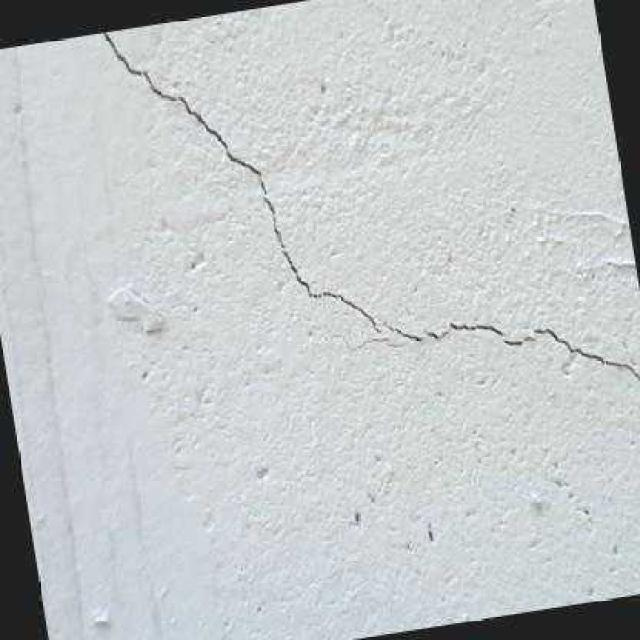D00: (101, 30, 380, 332), (530, 327, 640, 383), (383, 322, 446, 340), (447, 320, 500, 334), (500, 334, 533, 343)
